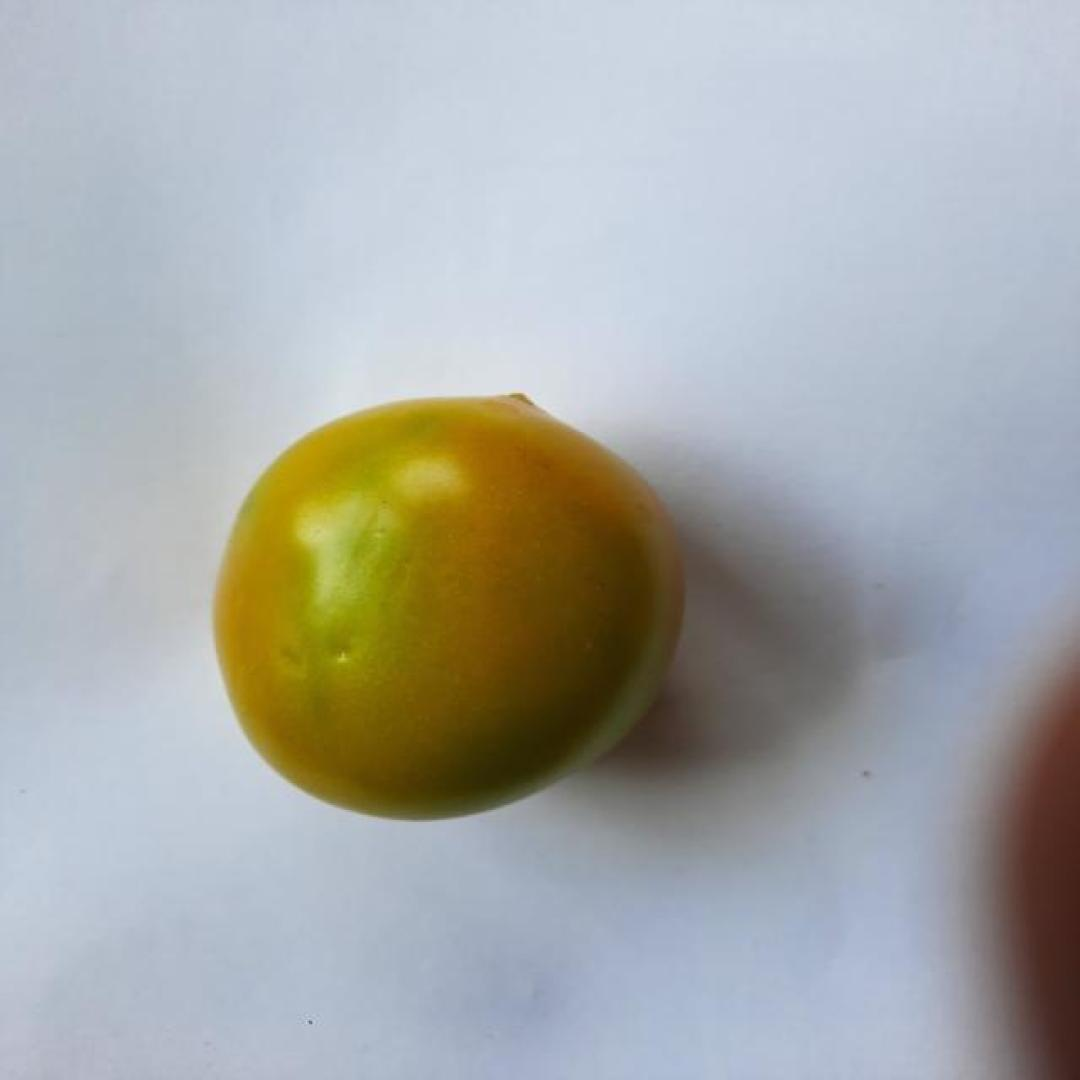setengah_matang: (204, 388, 690, 824)
